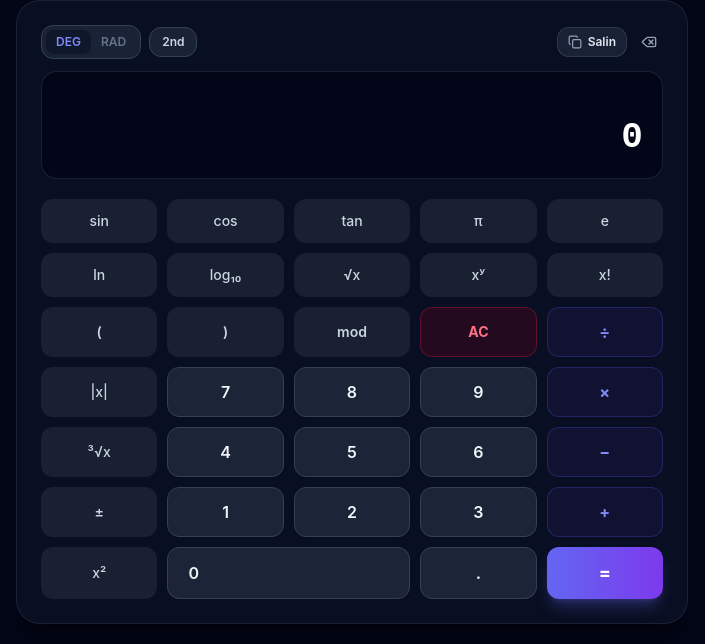
Scenario: ScientificCalculator Component › toggles inverse trigonometric functions with 2nd button
Check: the button with aria-label "Sinus" is shown, box left=41, top=199, right=157, bottom=243
Check: the button with aria-label "Logaritma natural" is shown, box left=41, top=253, right=157, bottom=297
What coordinates should you click on to do the following:
click the button with aria-label "Fungsi inversi kedua"
I would click on:
 (173, 42)
Its box is left=149, top=27, right=198, bottom=57.
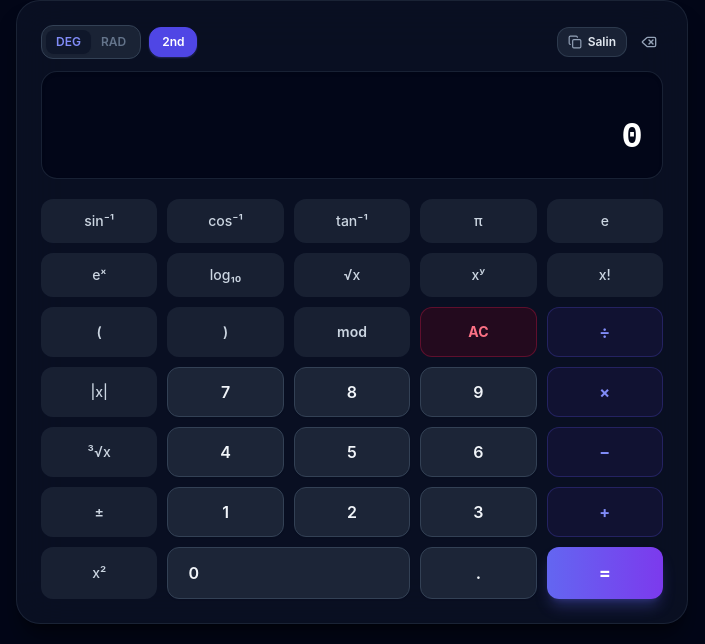
Check: the button with aria-label "Arkus sinus" is shown, box left=41, top=199, right=157, bottom=243
Check: the button with aria-label "Eksponen e pangkat x" is shown, box left=41, top=253, right=157, bottom=297
